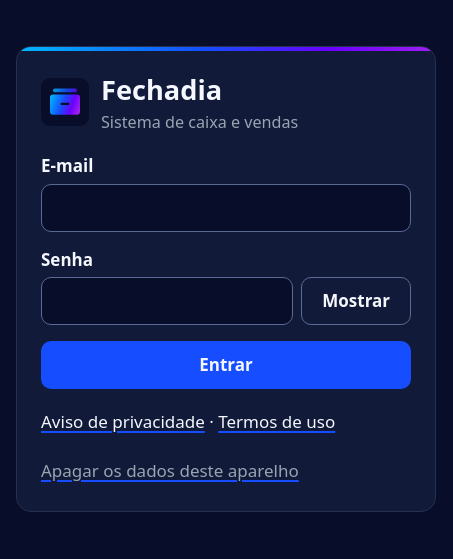
Test case: TelaDeLogin › credencial recusada mostra a mensagem e não guarda nada
Type "ana@exemplo.test" into the field labelled "E-mail".
click(226, 208); type("ana@exemplo.test")  # box [41,184,411,232]
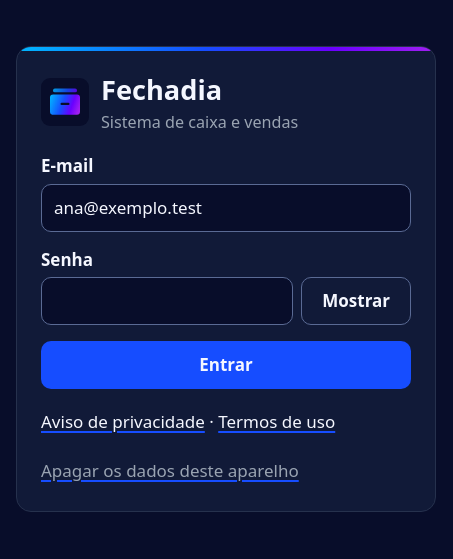
Type "abc" into the password field labelled "Senha".
click(167, 301); type("abc")  # box [41,277,293,325]
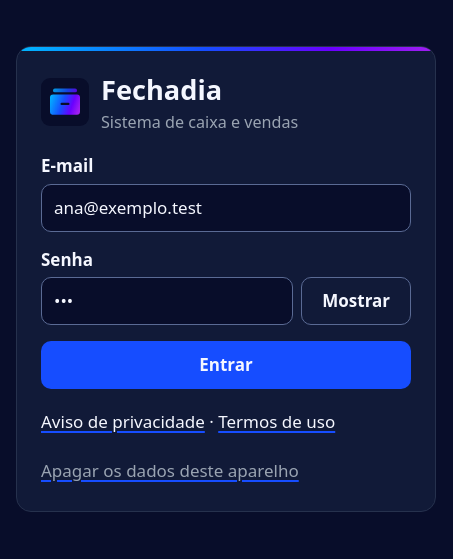
Click the button "Entrar".
click(226, 365)  # box [41,341,411,389]
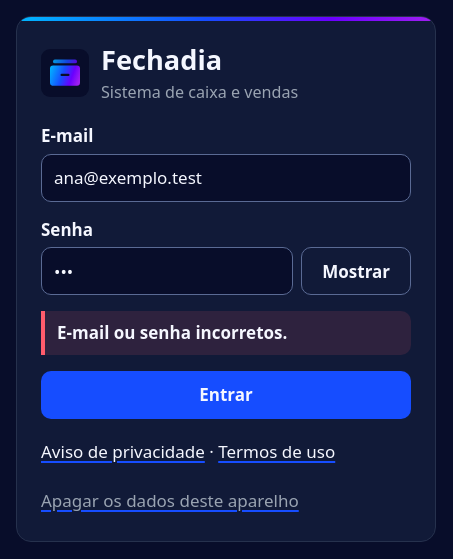
Now the message reads "E-mail ou senha incorretos.", box [57,321,287,344]
